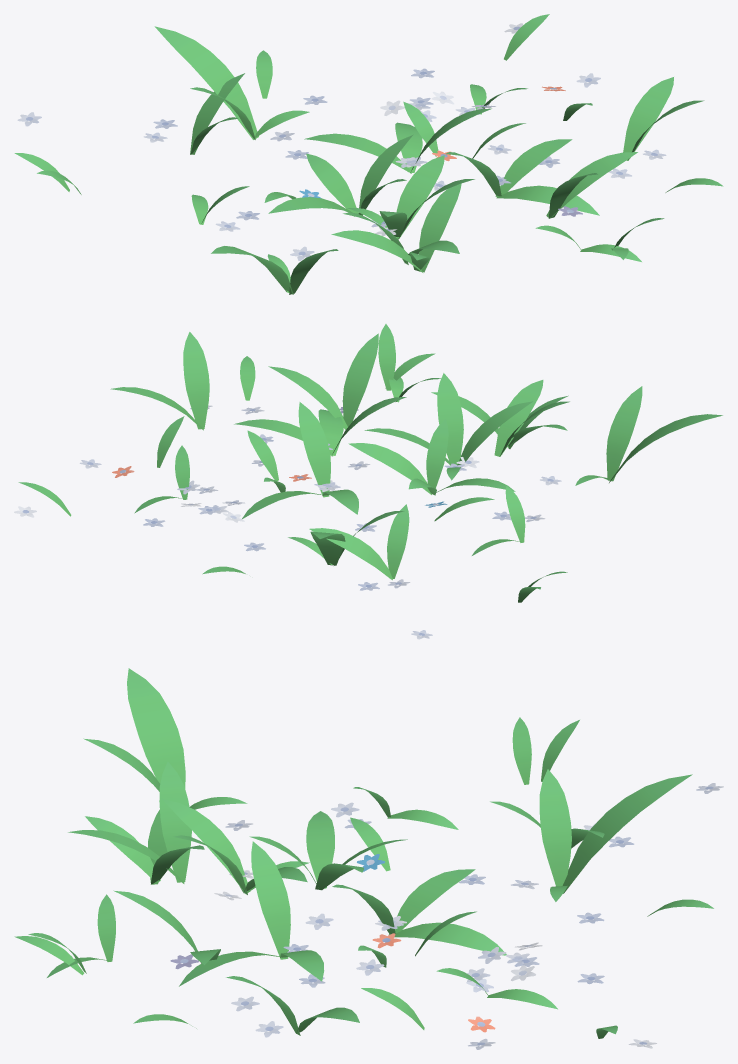
Rendered from dekoration.fbx.
3 renders of one model, top to bottom at view 1: azimuth 30°, elevation 25°; view 2: azimuth 150°, elevation 25°; view 3: azimuth 270°, elevation 25°, orthographic. The views are drawn at different scales.
Parts seen in each view (by area): view 1: Grass1, Grass2, Grass4, Grass3, Flowers3, Flowers1, Flowers2, Flowers4; view 2: Grass1, Grass3, Grass2, Grass4, Flowers3, Flowers2, Flowers1; view 3: Grass2, Grass1, Grass3, Grass4, Flowers3, Flowers2, Flowers1, Flowers4.
Boxes of the visible parts, bbox=[...] form: Grass1: bbox=[191, 50, 704, 259]; Grass2: bbox=[154, 14, 723, 264]; Grass4: bbox=[14, 101, 525, 272]; Grass3: bbox=[190, 73, 637, 294]; Flowers3: bbox=[215, 68, 631, 231]; Flowers1: bbox=[17, 73, 600, 260]; Flowers2: bbox=[143, 95, 666, 227]; Flowers4: bbox=[270, 23, 560, 235]; Grass1: bbox=[110, 324, 532, 574]; Grass3: bbox=[157, 333, 722, 580]; Grass2: bbox=[18, 356, 569, 565]; Grass4: bbox=[247, 392, 568, 602]; Flowers3: bbox=[112, 407, 545, 531]; Flowers2: bbox=[177, 405, 466, 590]; Flowers1: bbox=[79, 443, 561, 639]; Grass2: bbox=[47, 761, 692, 1038]; Grass1: bbox=[14, 787, 713, 1035]; Grass3: bbox=[83, 668, 604, 1029]; Grass4: bbox=[85, 717, 579, 967]; Flowers3: bbox=[170, 802, 604, 1032]; Flowers2: bbox=[252, 822, 634, 1037]; Flowers1: bbox=[225, 783, 723, 1049]; Flowers4: bbox=[214, 870, 656, 1048].
Size of the model in its own units: 6.27 by 0.8577 by 5.94.
